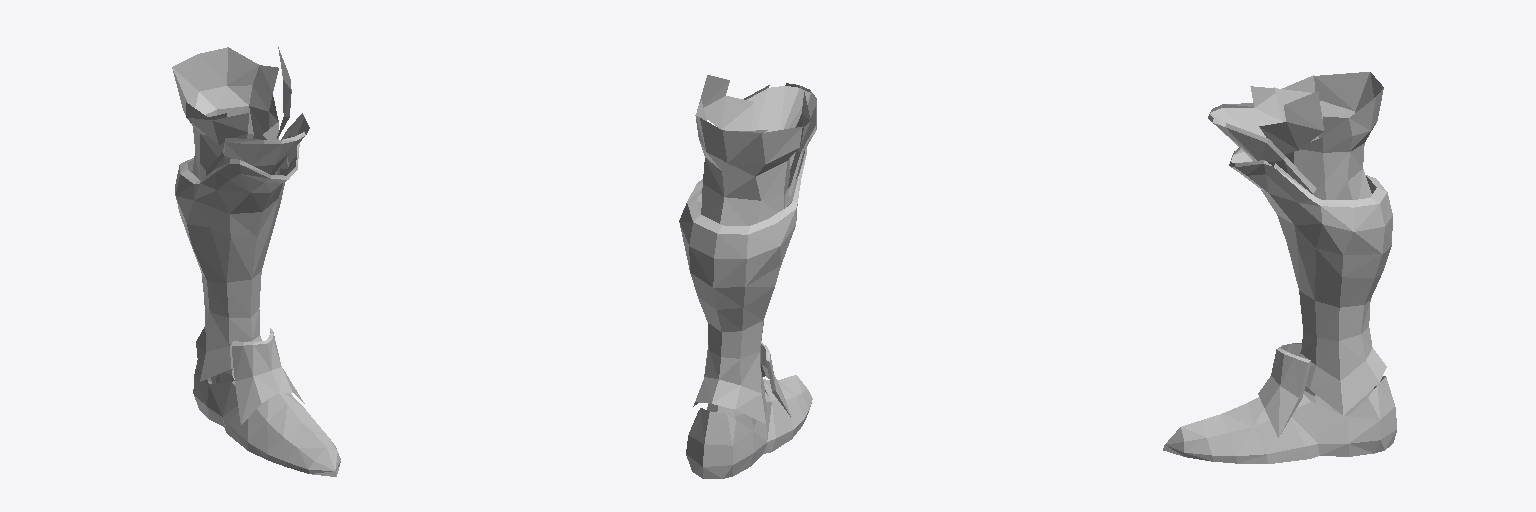
File: perinaIzquierda.obj
The picture shows the model from 3 angles: view 1: azimuth 30°, elevation 25°; view 2: azimuth 150°, elevation 25°; view 3: azimuth 270°, elevation 25°; orthographic projection.
Parts seen in each view (by area): view 1: Pierna_Izquierda; view 2: Pierna_Izquierda; view 3: Pierna_Izquierda.
Boxes of the visible parts, x1=… form: Pierna_Izquierda: x1=172, y1=47, x2=340, y2=476; Pierna_Izquierda: x1=679, y1=75, x2=816, y2=478; Pierna_Izquierda: x1=1163, y1=72, x2=1396, y2=463.
Size of the model in its own units: 0.2396 by 0.7969 by 0.4575.